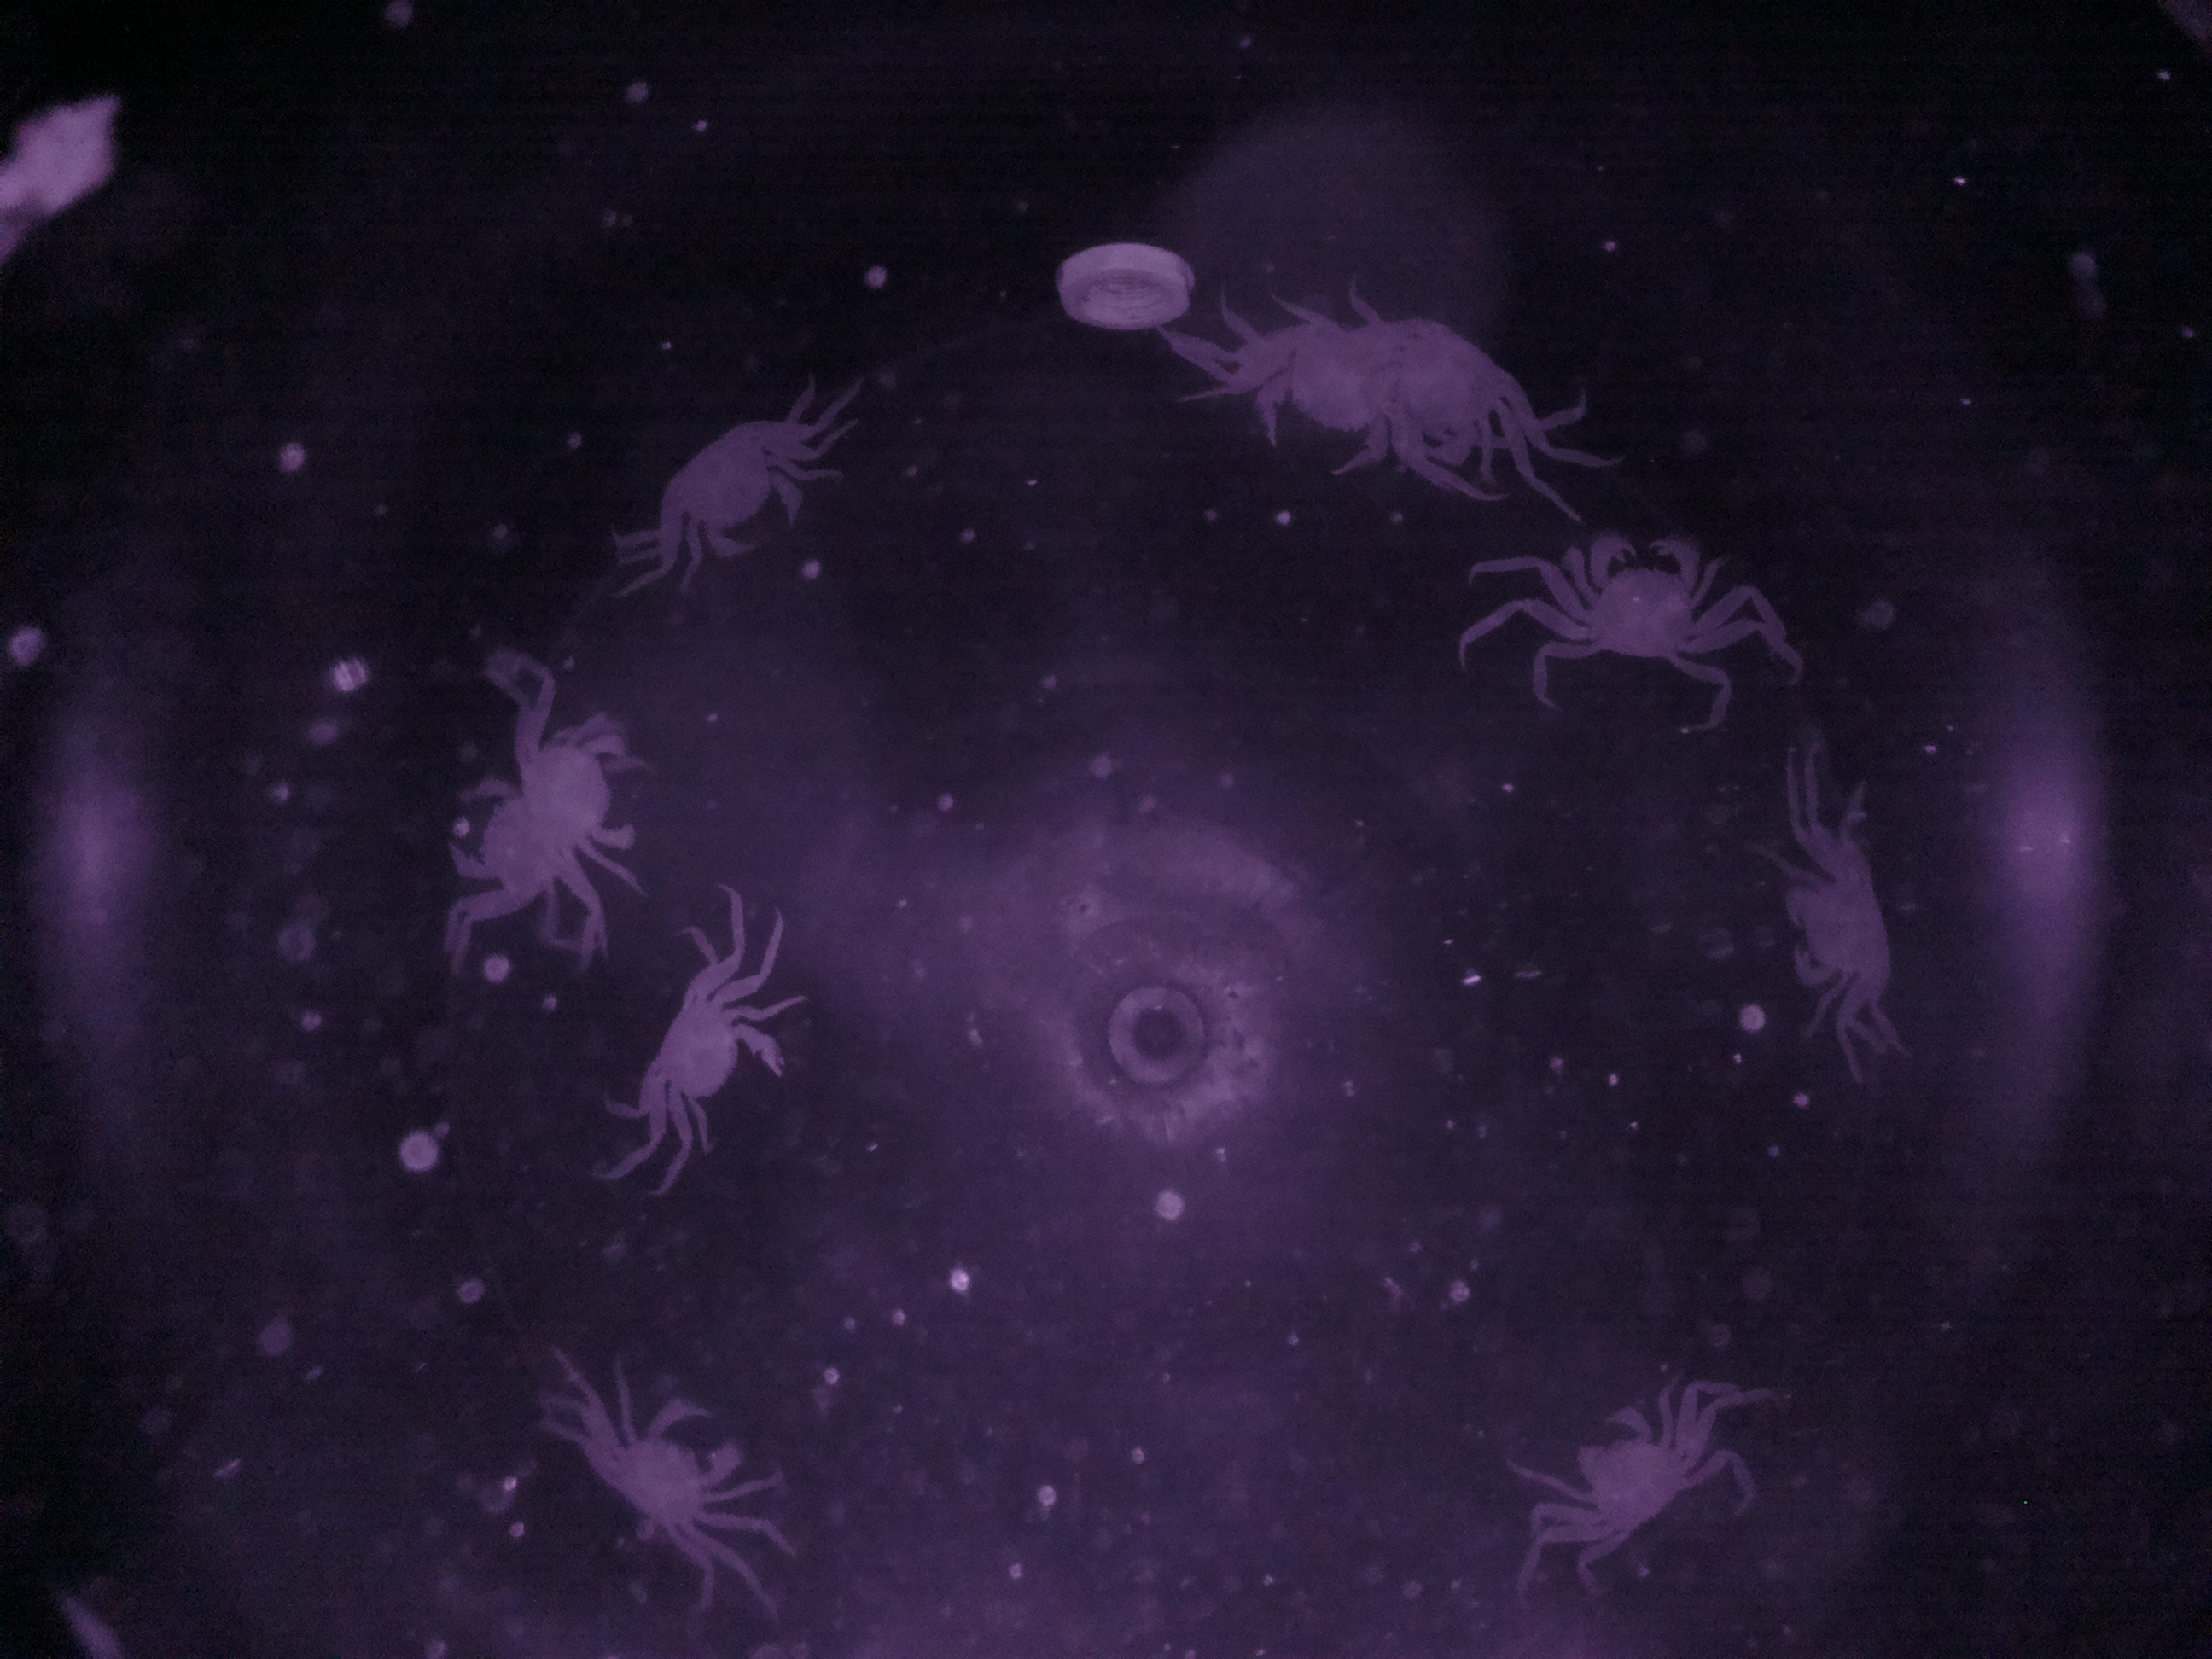Crab: (636, 382, 833, 586), (1761, 829, 1933, 1044), (578, 1366, 763, 1561), (1526, 518, 1750, 678), (622, 965, 805, 1157), (1526, 1380, 1719, 1558)
